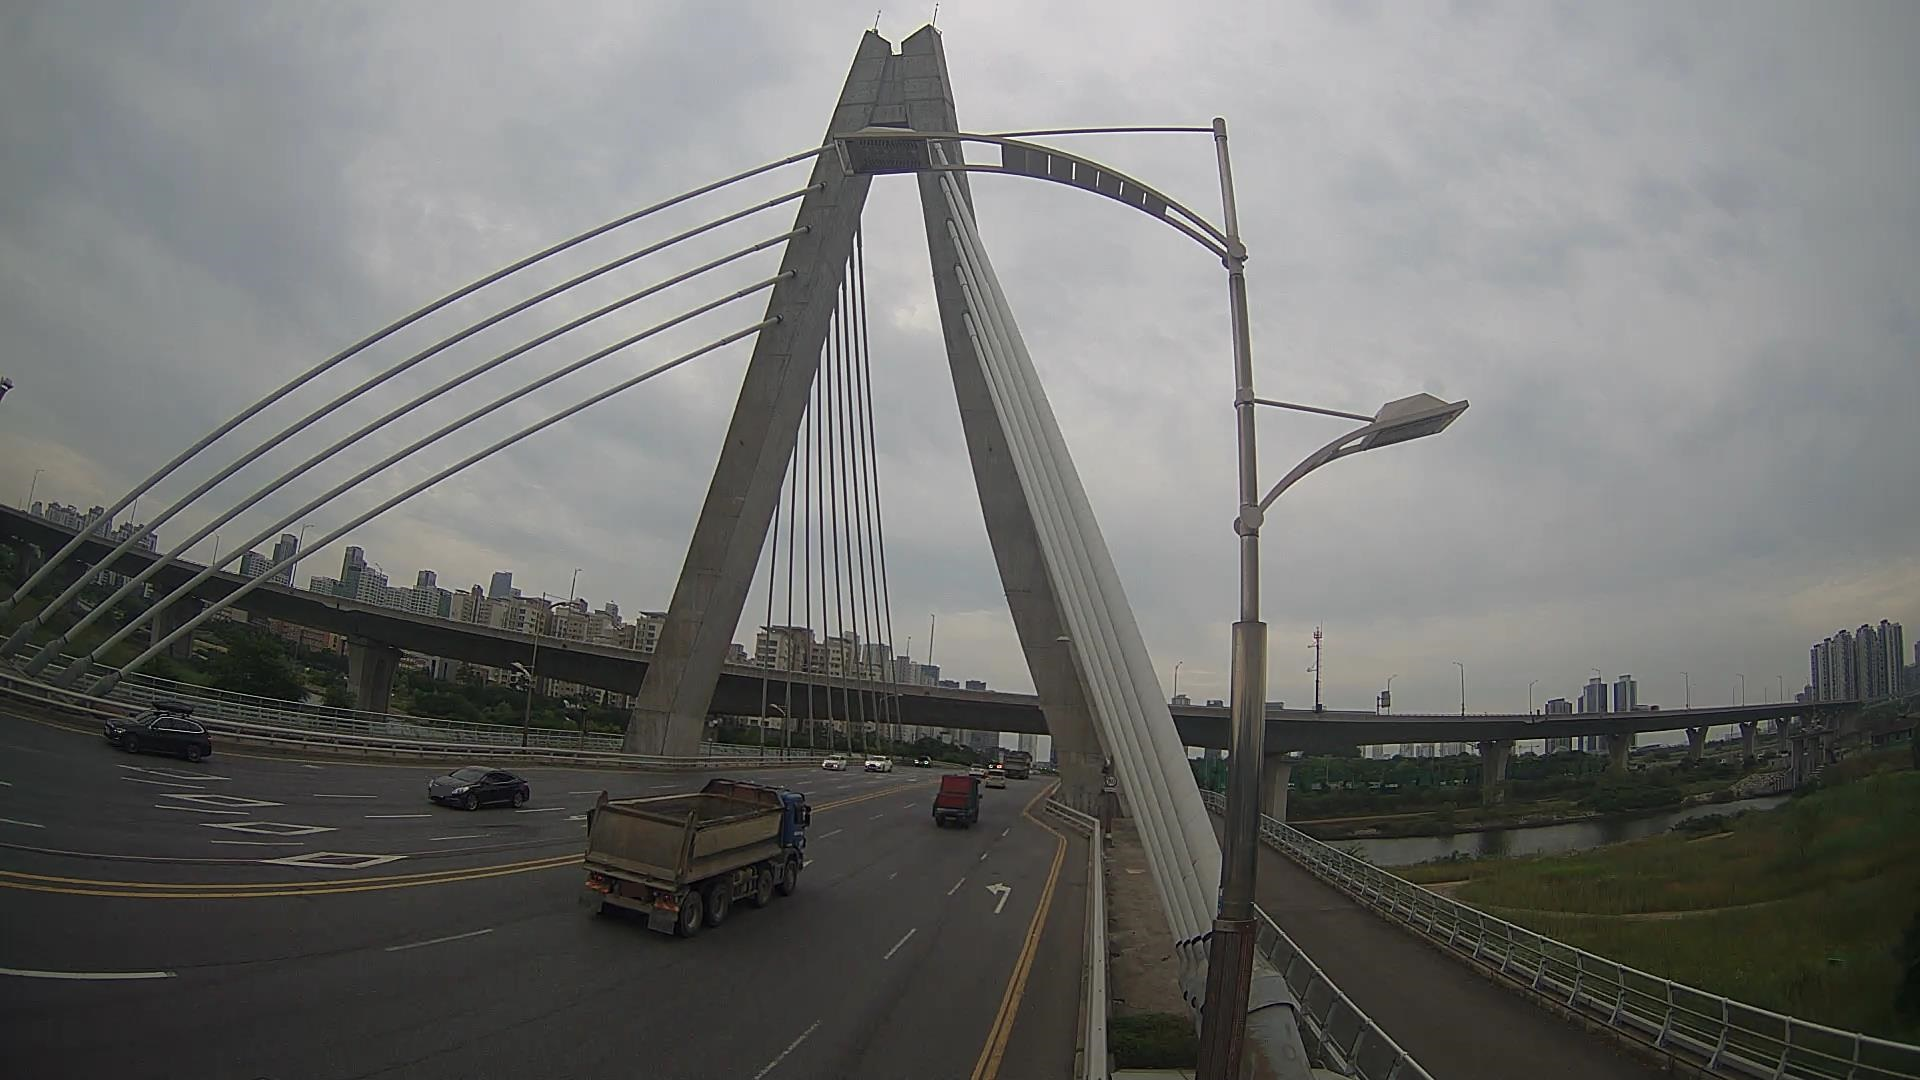정상차량: (580, 778, 811, 937)
